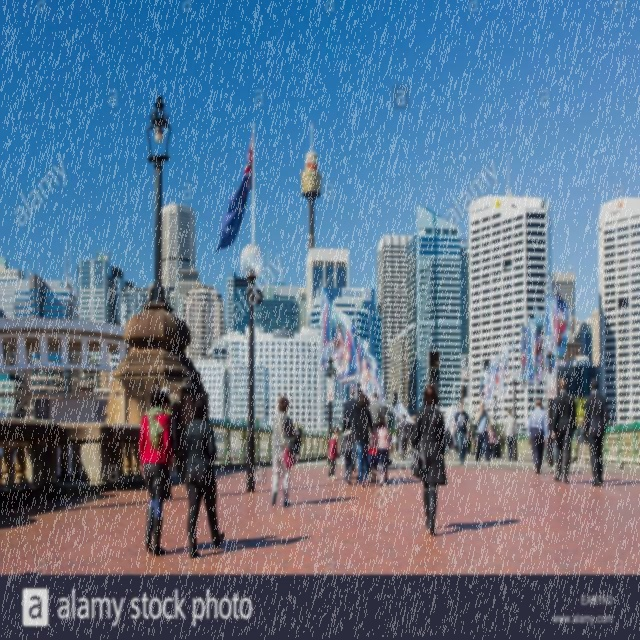pessoa: (136, 383, 178, 558), (184, 394, 226, 560), (408, 381, 447, 538), (162, 528, 312, 564), (268, 392, 298, 508), (550, 376, 578, 484), (583, 377, 609, 488), (432, 512, 520, 540), (352, 390, 375, 490), (526, 398, 550, 476), (369, 414, 392, 488), (343, 386, 359, 472), (451, 398, 471, 466), (338, 416, 357, 486), (474, 400, 491, 467), (501, 406, 518, 466), (574, 413, 588, 468), (327, 426, 340, 481), (396, 411, 410, 462), (292, 420, 306, 466), (368, 390, 384, 428), (544, 430, 558, 464), (444, 425, 459, 455), (408, 414, 418, 456), (466, 428, 478, 455), (488, 424, 497, 459), (496, 432, 506, 456), (390, 433, 400, 453), (160, 386, 172, 398), (478, 441, 486, 459)
